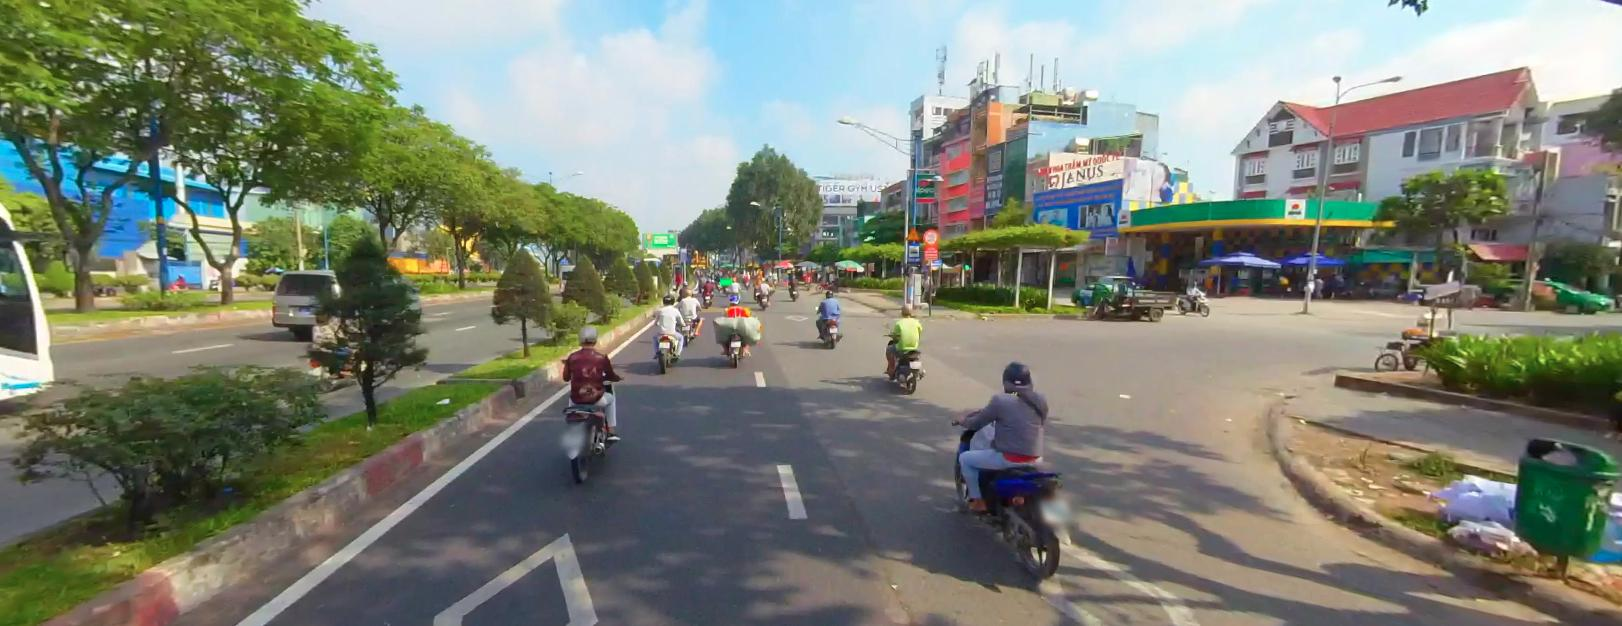Cam con lai: (922, 228, 938, 243)
Nguy hiem: (904, 226, 919, 240)
